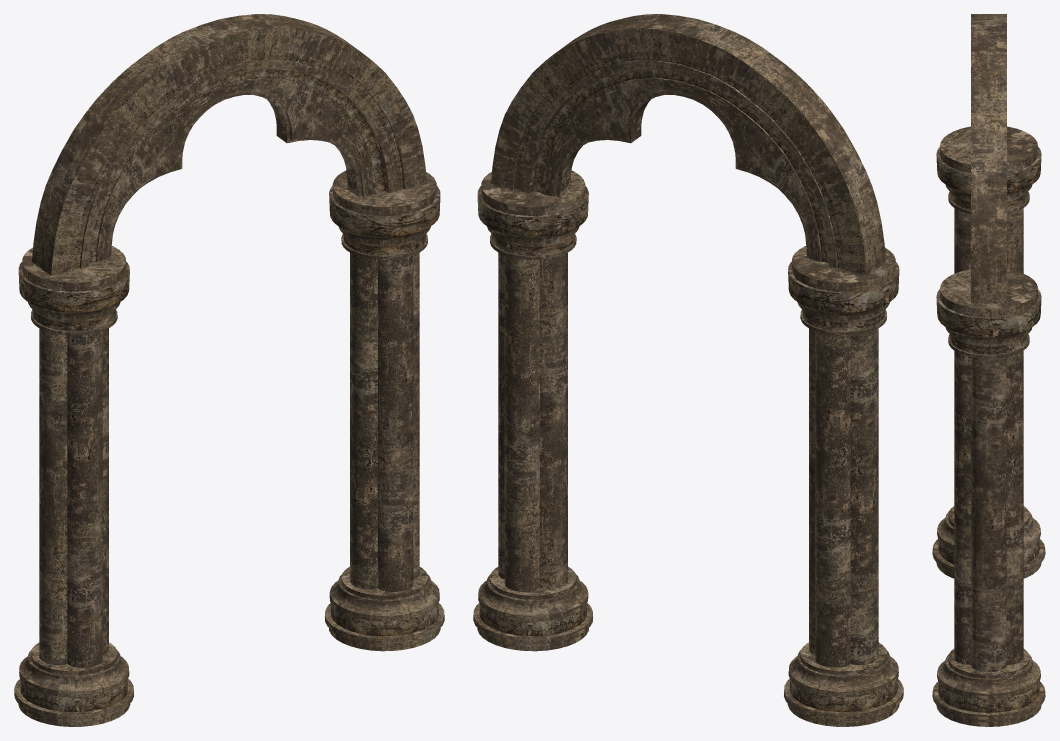
File: materials_5_gate_11.fbx
3 views of the same model, side by side, from view 1: azimuth 30°, elevation 25°; view 2: azimuth 150°, elevation 25°; view 3: azimuth 270°, elevation 25° (orthographic). The views are drawn at different scales.
Visible parts, largest first — view 1: materials_5_gate_11; view 2: materials_5_gate_11; view 3: materials_5_gate_11.
Part boxes in pixels (bbox=[...]): materials_5_gate_11: bbox=[14, 14, 444, 726]; materials_5_gate_11: bbox=[473, 14, 903, 726]; materials_5_gate_11: bbox=[932, 14, 1045, 726].
Size of the model in its own units: 168 by 247 by 42.06.
